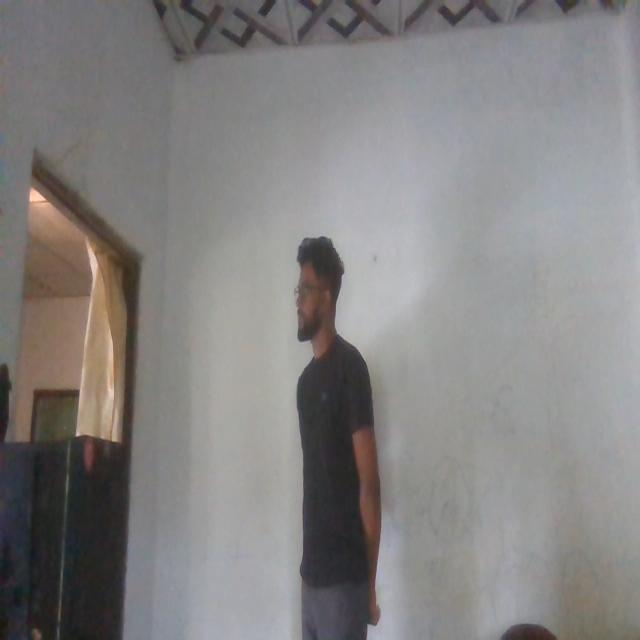Person: (282, 225, 401, 640)
